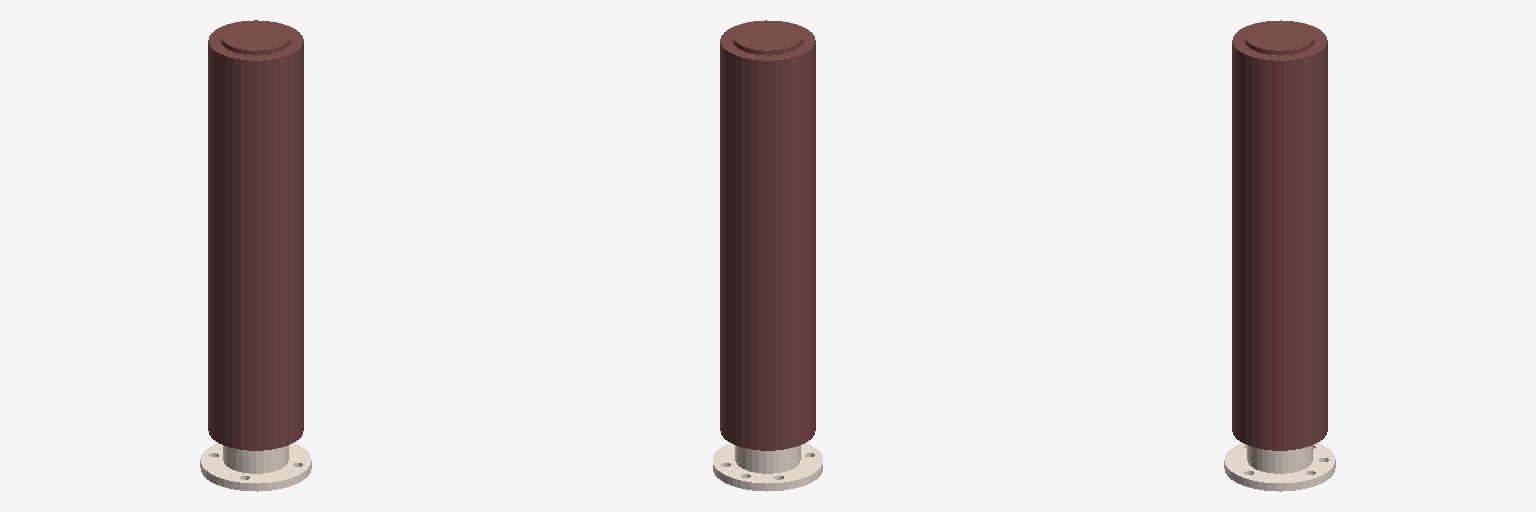
robot.urdf — electronic_magnet:
<?xml version="1.0" encoding="utf-8"?>
<!-- This URDF was automatically created by SolidWorks to URDF Exporter! Originally created by Stephen Brawner (brawner@gmail.com) 
     Commit Version: 1.6.0-4-g7f85cfe  Build Version: 1.6.7995.38578
     For more information, please see http://wiki.ros.org/sw_urdf_exporter -->
<robot
  name="electronic_magnet">
  <link
    name="em_base_link">
    <inertial>
      <origin
        xyz="-8.3267E-17 0.00012355 0.0077014"
        rpy="0 0 0" />
      <mass
        value="0.12279" />
      <inertia
        ixx="2.413E-05"
        ixy="-5.9292E-21"
        ixz="6.5341E-20"
        iyy="2.4481E-05"
        iyz="-7.2797E-08"
        izz="3.9841E-05" />
    </inertial>
    <visual>
      <origin
        xyz="0 0 0"
        rpy="0 0 0" />
      <geometry>
        <mesh
          filename="package://frcobot_tools/tools/electronic_magnet/meshes/visual/em_base_link.STL" />
      </geometry>
      <material
        name="">
        <color
          rgba="1 0.94902 0.89804 1" />
      </material>
    </visual>
    <collision>
      <origin
        xyz="0 0 0"
        rpy="0 0 0" />
      <geometry>
        <mesh
          filename="package://frcobot_tools/tools/electronic_magnet/meshes/collision/em_base_link.STL" />
      </geometry>
    </collision>
  </link>
  <link
    name="em_tcp_link">
    <inertial>
      <origin
        xyz="2.7756E-17 2.7756E-17 9.5087E-05"
        rpy="0 0 0" />
      <mass
        value="4.7133" />
      <inertia
        ixx="0.024838"
        ixy="0"
        ixz="-1.1723E-18"
        iyy="0.024838"
        iyz="2.1387E-19"
        izz="0.0017594" />
    </inertial>
    <visual>
      <origin
        xyz="0 0 0"
        rpy="0 0 0" />
      <geometry>
        <mesh
          filename="package://frcobot_tools/tools/electronic_magnet/meshes/visual/em_tcp_link.STL" />
      </geometry>
      <material
        name="">
        <color
          rgba="0.53725 0.34902 0.33725 1" />
      </material>
    </visual>
    <collision>
      <origin
        xyz="0 0 0"
        rpy="0 0 0" />
      <geometry>
        <mesh
          filename="package://frcobot_tools/tools/electronic_magnet/meshes/collision/em_tcp_link.STL" />
      </geometry>
    </collision>
  </link>
  <joint
    name="electro_magnet"
    type="continuous">
    <origin
      xyz="0 0.00023753 0.145"
      rpy="0 0 0" />
    <parent
      link="em_base_link" />
    <child
      link="em_tcp_link" />
    <axis
      xyz="0 0 1" />
  </joint>
  <link
    name="em_ee_link">
    <inertial>
      <origin
        xyz="2.7756E-17 2.7756E-17 -0.1249"
        rpy="0 0 0" />
      <mass
        value="4.7133" />
      <inertia
        ixx="0.024838"
        ixy="0"
        ixz="-1.1723E-18"
        iyy="0.024838"
        iyz="2.1387E-19"
        izz="0.0017594" />
    </inertial>
    <visual>
      <origin
        xyz="0 0 0"
        rpy="0 0 0" />
      <geometry>
        <mesh
          filename="package://frcobot_tools/tools/electronic_magnet/meshes/visual/em_ee_link.STL" />
      </geometry>
      <material
        name="">
        <color
          rgba="0.53725 0.34902 0.33725 1" />
      </material>
    </visual>
    <collision>
      <origin
        xyz="0 0 0"
        rpy="0 0 0" />
      <geometry>
        <mesh
          filename="package://frcobot_tools/tools/electronic_magnet/meshes/collision/em_ee_link.STL" />
      </geometry>
    </collision>
  </link>
  <joint
    name="electromagnet_ee"
    type="fixed">
    <origin
      xyz="0 0 0.125"
      rpy="0 0 0" />
    <parent
      link="em_tcp_link" />
    <child
      link="em_ee_link" />
    <axis
      xyz="0 0 0" />
  </joint>
</robot>

--- What the picture shows (computed from the rendered views, not written in the file) ---
The picture shows the robot from 3 angles, left to right: view 1: azimuth 30°, elevation 25°; view 2: azimuth 150°, elevation 25°; view 3: azimuth 270°, elevation 25°; orthographic projection.
Robot: electronic_magnet — 3 links, 2 joints (1 continuous, 1 fixed); root link em_base_link; default pose: all joints at 0.
Visible links, largest first — view 1: em_tcp_link, em_base_link; view 2: em_tcp_link, em_base_link; view 3: em_tcp_link, em_base_link.
Link boxes in pixels (box(x1,y1,x2,y2)): em_tcp_link: box(208, 20, 303, 450); em_base_link: box(200, 443, 311, 491); em_tcp_link: box(720, 20, 815, 450); em_base_link: box(713, 443, 822, 491); em_tcp_link: box(1232, 20, 1327, 450); em_base_link: box(1224, 443, 1335, 491).
Bounding box of the posed robot: 0.063 × 0.063 × 0.27 m (x, y, z).
3 mesh visuals loaded from 3 distinct referenced files (3 binary STL).
